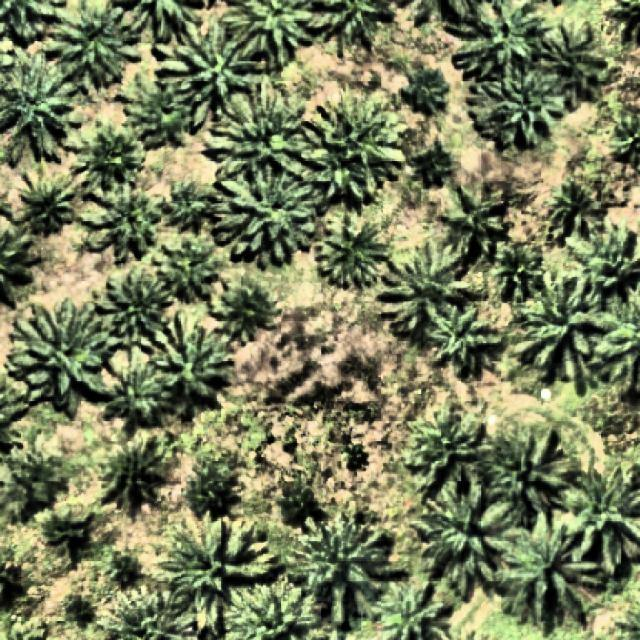Kelapa_Sawit: (150, 517, 282, 637), (5, 296, 124, 419), (286, 512, 408, 628), (300, 82, 408, 204), (209, 158, 325, 270), (199, 74, 313, 184), (492, 508, 600, 624), (411, 481, 514, 601), (156, 12, 256, 131), (517, 270, 611, 382), (404, 402, 498, 511), (378, 241, 473, 344), (465, 59, 567, 150), (153, 307, 236, 418), (446, 0, 554, 82), (486, 425, 576, 510), (93, 263, 173, 352), (77, 181, 165, 261), (101, 343, 174, 439), (539, 19, 613, 113), (116, 61, 192, 150), (70, 113, 146, 199), (314, 206, 390, 289), (424, 302, 502, 380), (209, 272, 282, 348), (100, 436, 166, 518), (151, 233, 224, 304), (437, 184, 505, 258), (14, 157, 77, 236), (544, 174, 604, 243), (35, 504, 93, 568), (184, 457, 242, 520), (492, 243, 545, 306), (159, 180, 213, 233), (402, 64, 449, 118), (411, 136, 454, 190), (274, 472, 314, 520)
